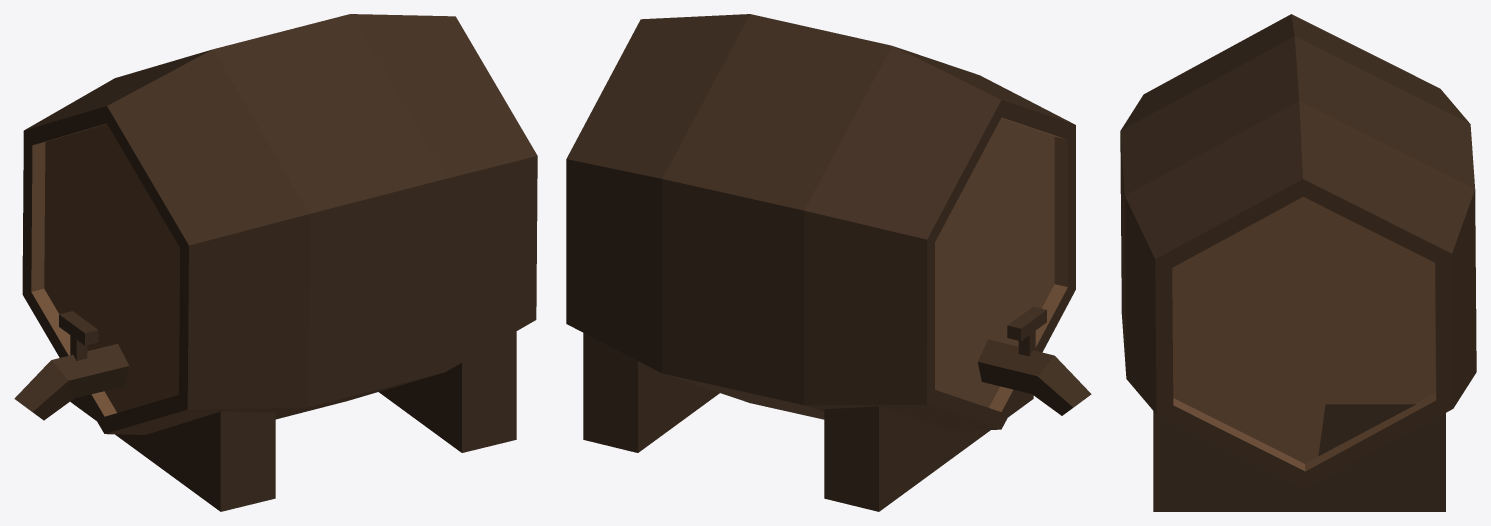
The model's file is barrel_w_beer_mat.fbx.
3 renders of one model, left to right at view 1: azimuth 30°, elevation 25°; view 2: azimuth 150°, elevation 25°; view 3: azimuth 270°, elevation 25°, orthographic. The views are drawn at different scales.
Visible parts, largest first — view 1: barrel_w_beer_mat; view 2: barrel_w_beer_mat; view 3: barrel_w_beer_mat.
Boxes of the visible parts, x1=… form: barrel_w_beer_mat: x1=14, y1=14, x2=537, y2=511; barrel_w_beer_mat: x1=566, y1=14, x2=1091, y2=511; barrel_w_beer_mat: x1=1120, y1=14, x2=1476, y2=511.
Bounding box in the file's own units: 59.69 × 49.63 × 43.29.
